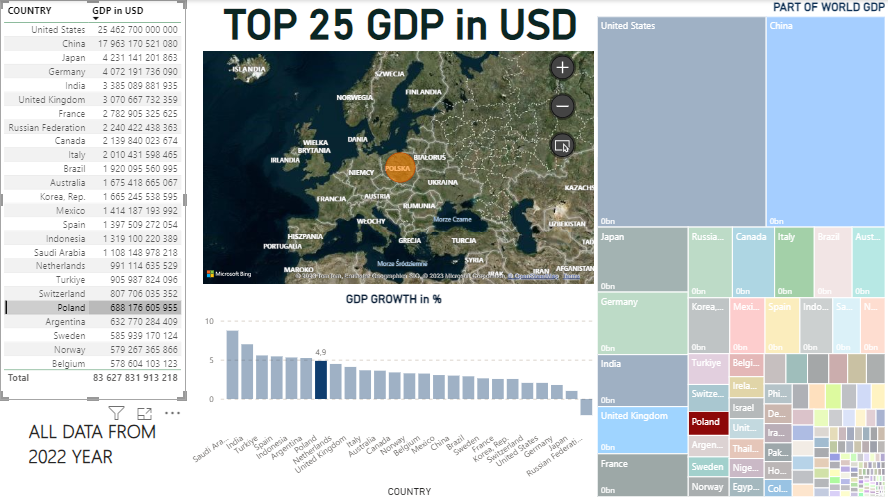

The page's visual inventory and layout, read from the dashboard file:
{"tool":"powerbi","page":{"name":"Page 1","canvas":[1280,720],"ordinal":0},"visuals":[{"type":"tableEx","fields":{"Values":["general_data.COUNTRY (data from WB)","Sum(general_data.GDP in USD)"]},"box":[0,0,267.1,575.7],"z":0},{"type":"map","title":"TOP 25 GDP in USD","fields":{"Category":["general_data.COUNTRY"],"Size":["Sum(general_data.GDP in USD)"]},"box":[288.6,0,577.1,414.3],"z":1000},{"type":"clusteredColumnChart","title":"GDP GROWTH in %","fields":{"Category":["general_data.COUNTRY"],"Y":["Sum(general_data.GDP GROWTH in %)"]},"box":[267.1,420,598.6,300],"z":2000},{"type":"treemap","title":"PART OF WORLD GDP","fields":{"Group":["general_data.COUNTRY"],"Values":["Sum(general_data.GDP in USD)"]},"box":[855.7,0,424.3,720],"z":3000},{"type":"textbox","box":[35.7,595.7,207.1,90],"z":4000}]}

Visuals, with their boxes in screenshot pixels (x1, y1, x2, y2), scaled from the page's 1280x720 canvas onto the 888x500 screenshot:
tableEx - general_data.COUNTRY (data from WB) x Sum(general_data.GDP in USD): 0/0/185/400
"TOP 25 GDP in USD" map: 200/0/601/288
"GDP GROWTH in %" clusteredColumnChart: 185/292/601/499
"PART OF WORLD GDP" treemap: 594/0/887/499
textbox: 25/414/168/476
